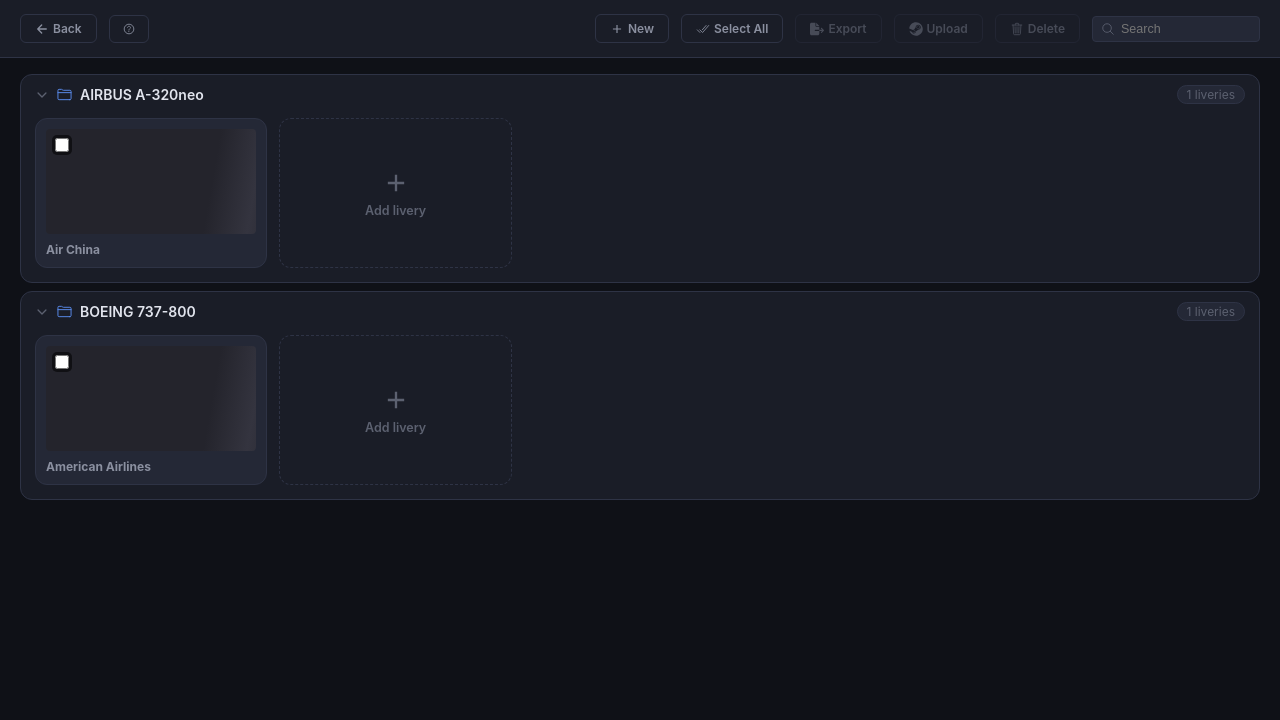
Test: LiveryScreen › header select-all + delete batch-delete end to end
The image size is (1280, 720).
Expected: the text "Air China" is shown, [46,242,100,257]
Step 1. Click the button "Select All" → point(732, 28), box [681,14,783,43]
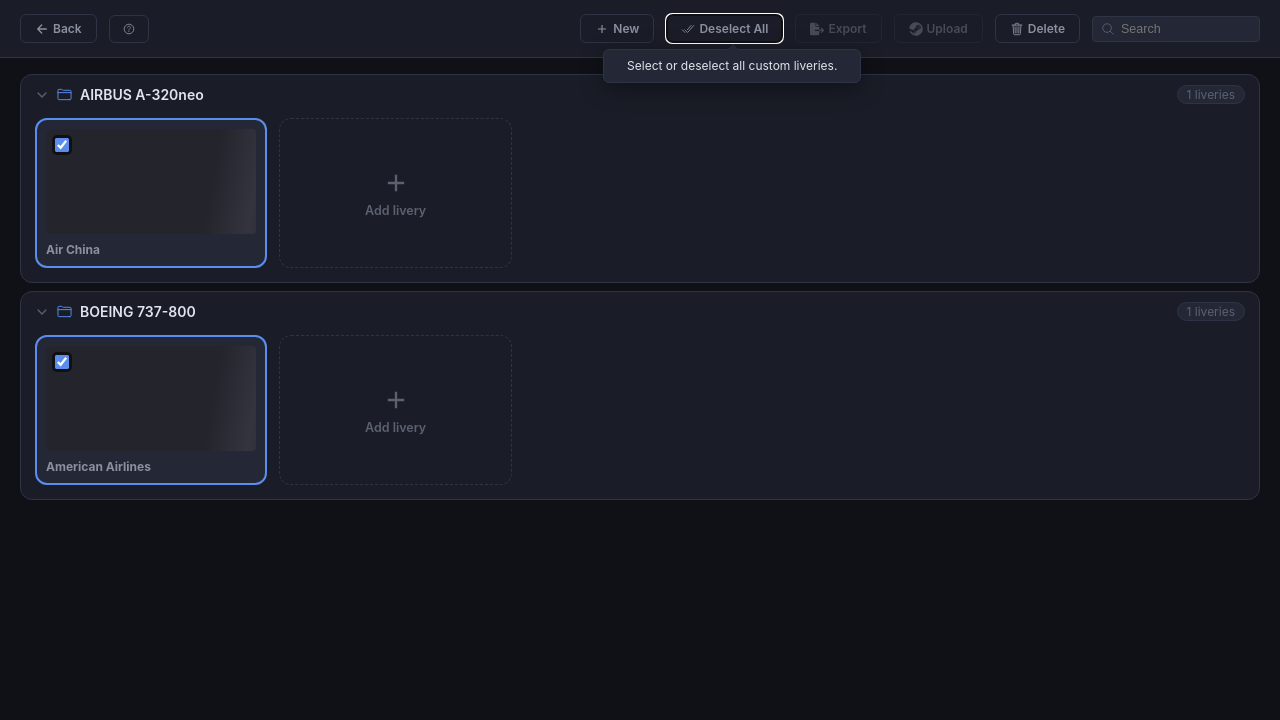
Expected: the button "Deselect All" is shown, [666,14,784,43]
Step 2. Click the button "Delete" → point(1037, 28), box [995,14,1080,43]
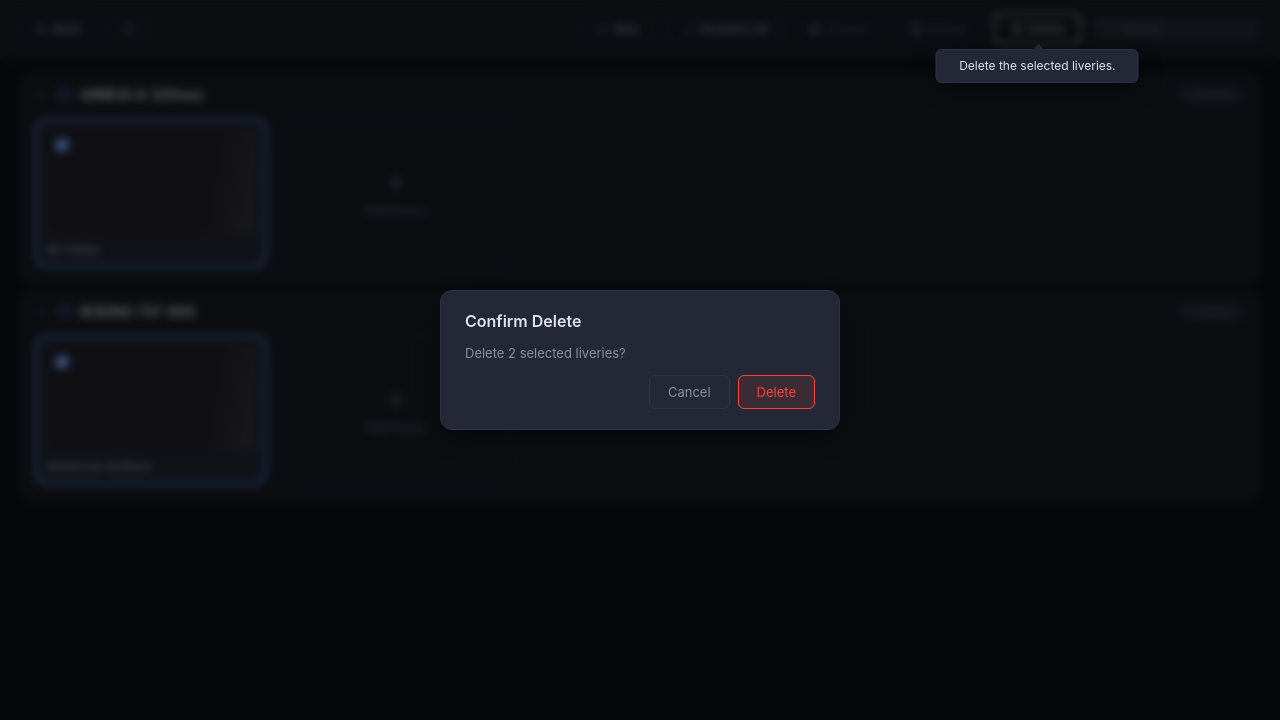
Expected: the text "Delete 2 selected liveries?" is shown, [465,345,626,361]
Step 3. Click the button "Delete" → point(776, 392), box [738,375,815,409]
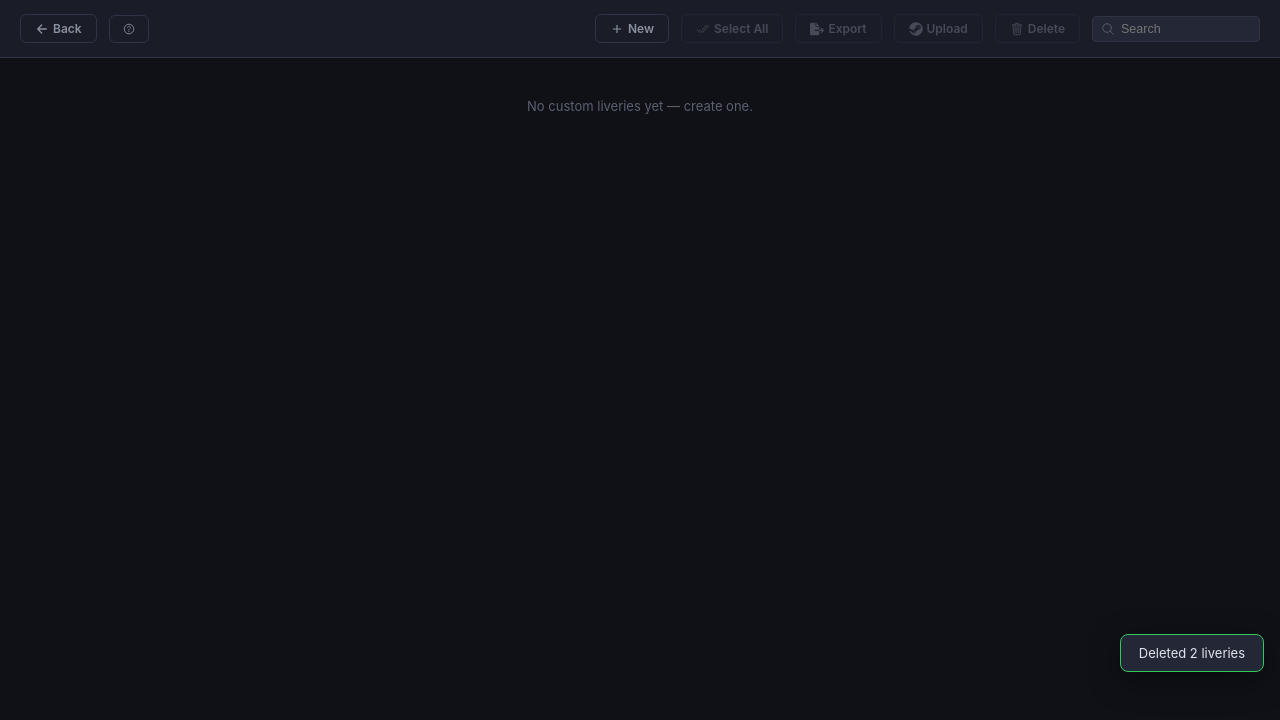
Expected: the text "Deleted 2 liveries" is shown, [1120,634,1264,672]
